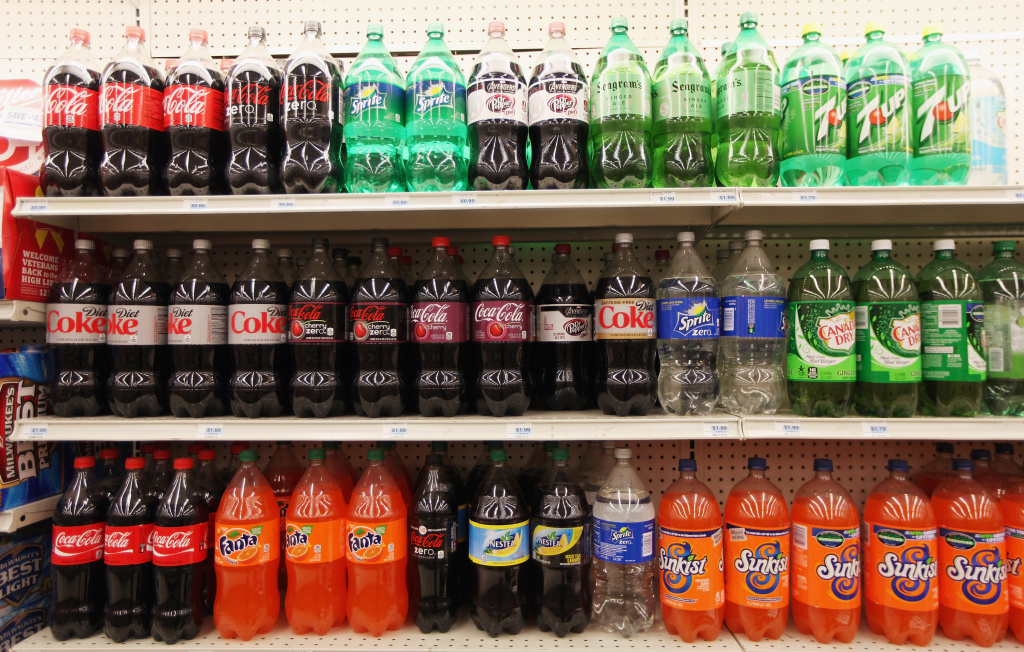coke: (154, 457, 213, 634), (51, 238, 106, 421), (234, 236, 290, 412), (409, 238, 466, 409), (350, 248, 409, 408), (603, 246, 658, 413), (51, 452, 102, 632), (170, 238, 223, 409), (475, 238, 526, 413), (117, 228, 166, 409), (41, 30, 97, 185), (166, 30, 222, 184), (226, 30, 283, 180), (298, 238, 345, 406), (102, 28, 155, 176), (106, 458, 150, 636), (290, 29, 339, 174), (418, 456, 459, 629)
